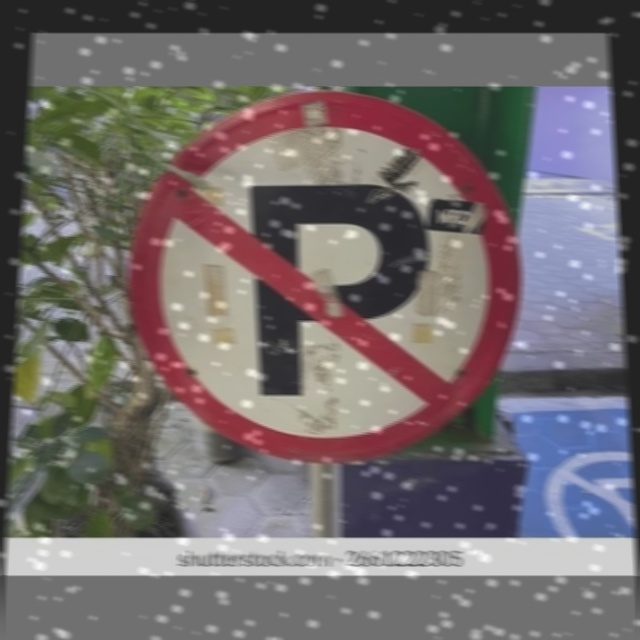No_Parking: (127, 91, 519, 448)
